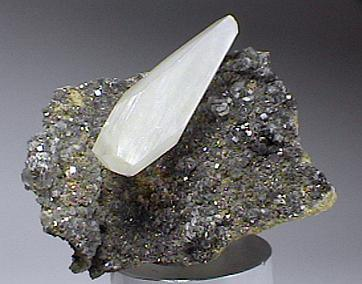calcite: (93, 15, 239, 176)
